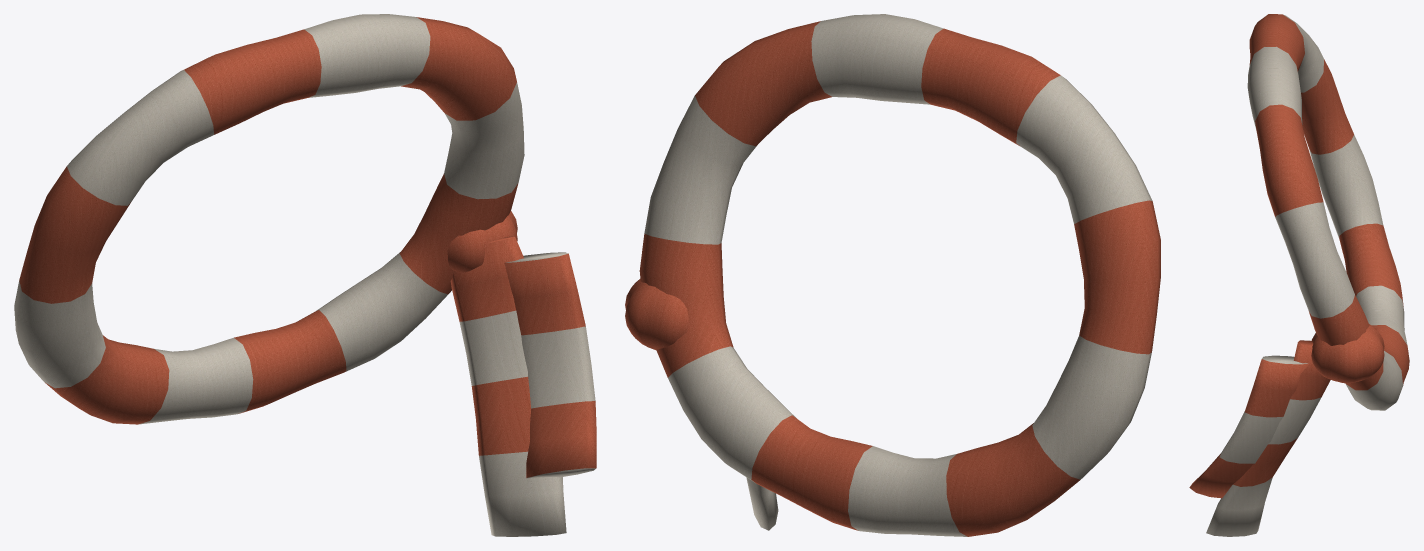
The model's file is scarf.glb.
3 views of the same model, side by side, from view 1: azimuth 30°, elevation 25°; view 2: azimuth 150°, elevation 25°; view 3: azimuth 270°, elevation 25° (orthographic). The views are drawn at different scales.
Visible parts, largest first — view 1: Scarf; view 2: Scarf; view 3: Scarf.
Boxes of the visible parts, box(x1,y1,x2,y2) form: Scarf: box(14, 14, 596, 536); Scarf: box(625, 14, 1160, 536); Scarf: box(1189, 14, 1409, 536).
Size of the model in its own units: 0.5256 by 0.5358 by 0.2554.
Materials: 2 (2 with a texture image).
